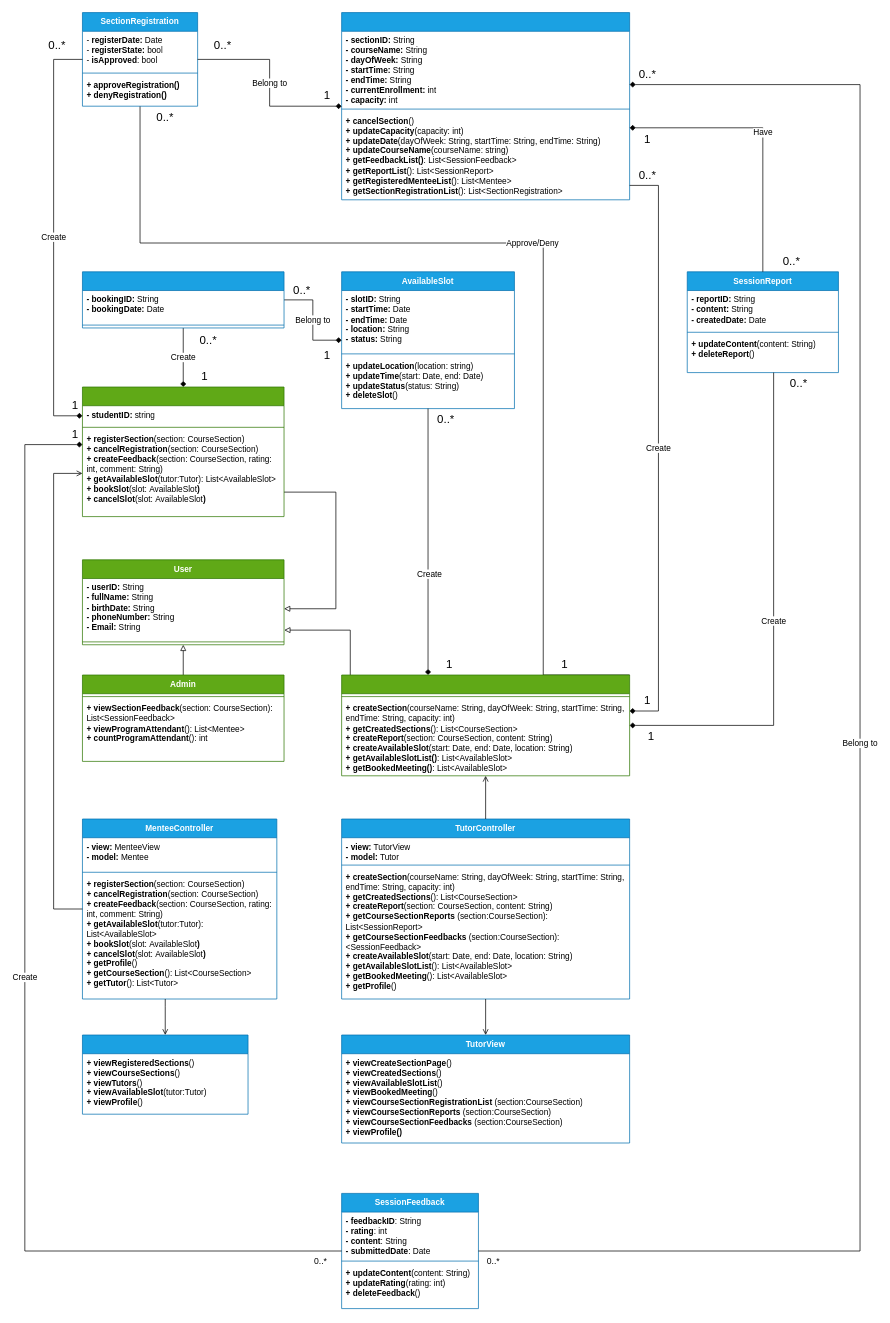
Image size: 890x1323. Some labels were removed from this diagram. Each missing label, with the box of its shape:
CourseSection: (341, 12, 630, 200)
Mentee: (82, 386, 284, 517)
MenteeView: (82, 1034, 248, 1114)
SlotBooking: (82, 271, 284, 328)
Tutor: (341, 674, 630, 776)
